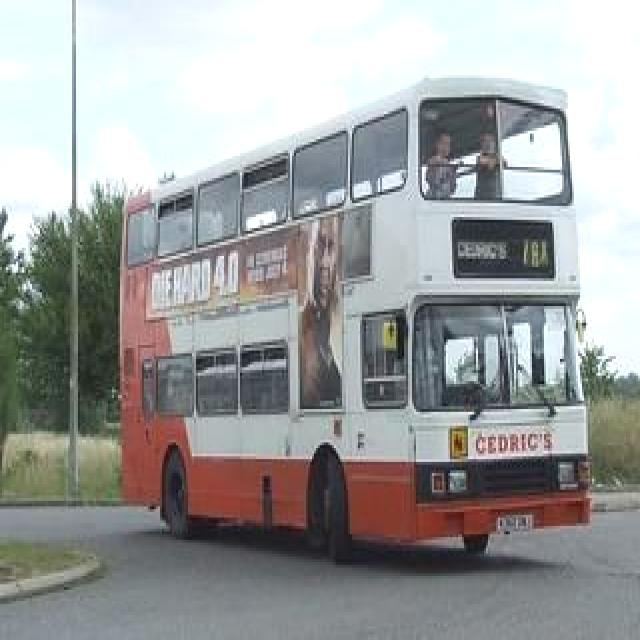Bus: (117, 74, 594, 555)
